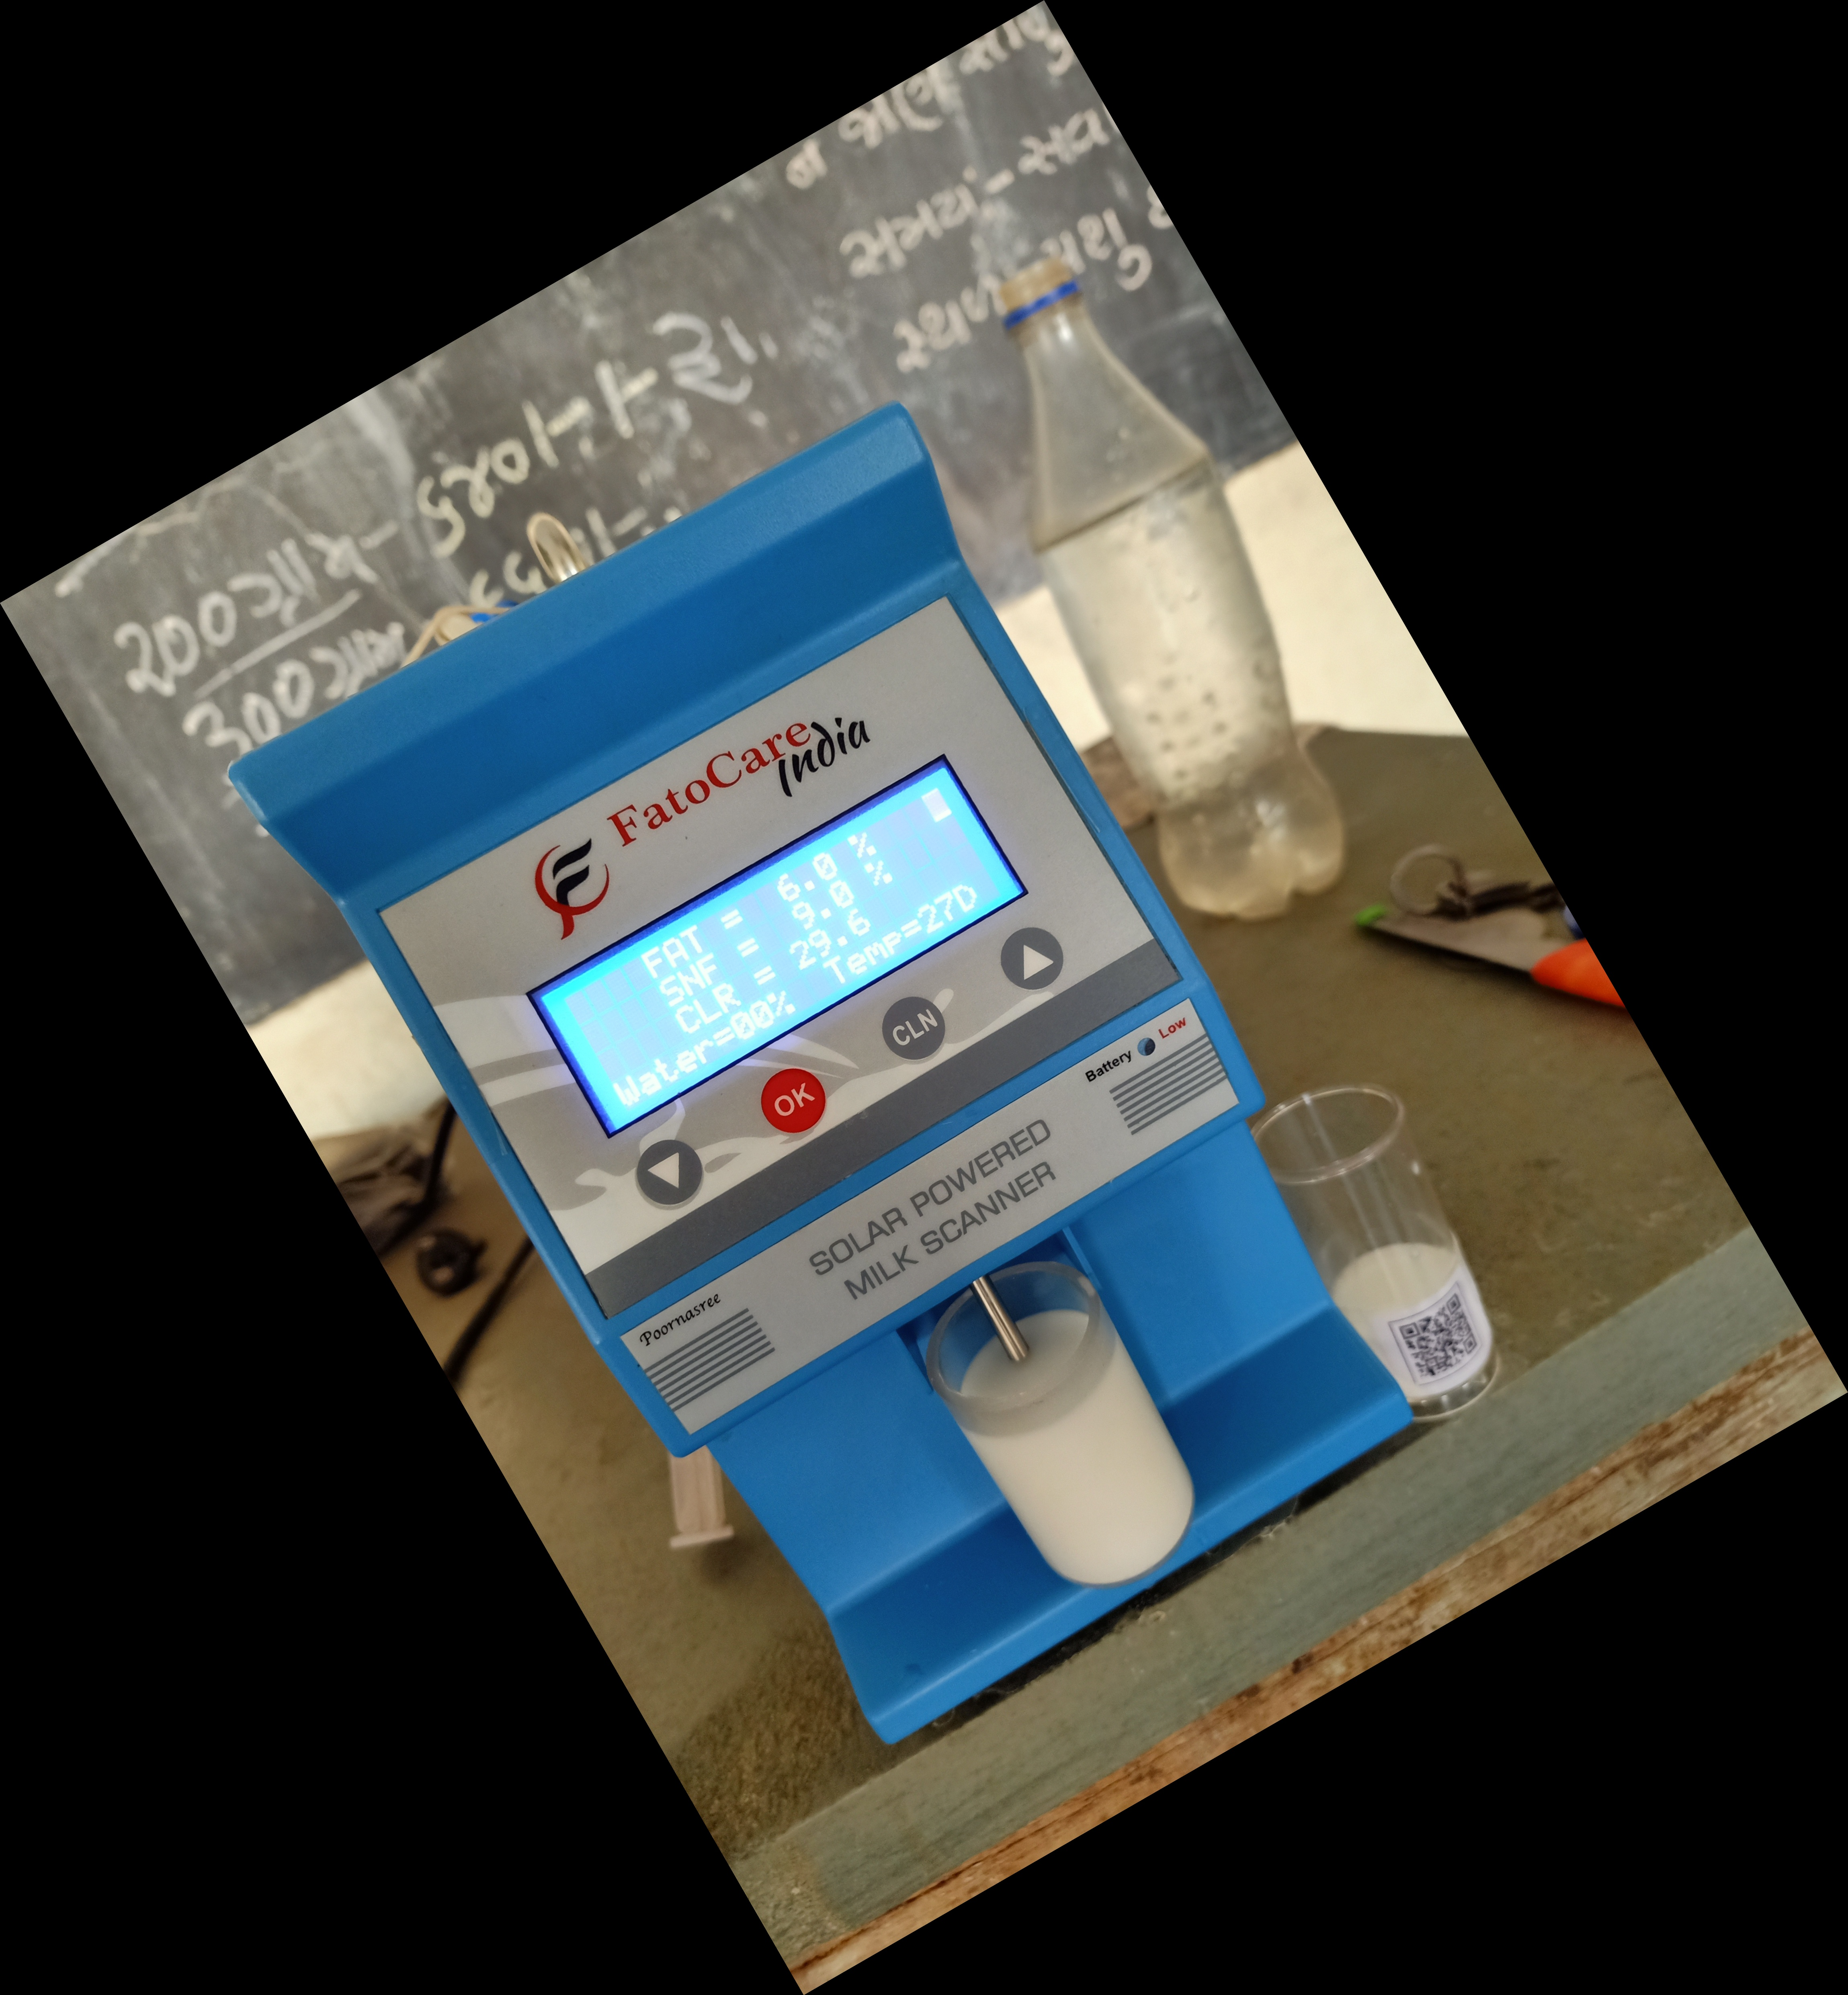lcd: (518, 719, 1055, 1164)
qr: (1373, 1269, 1493, 1406)
